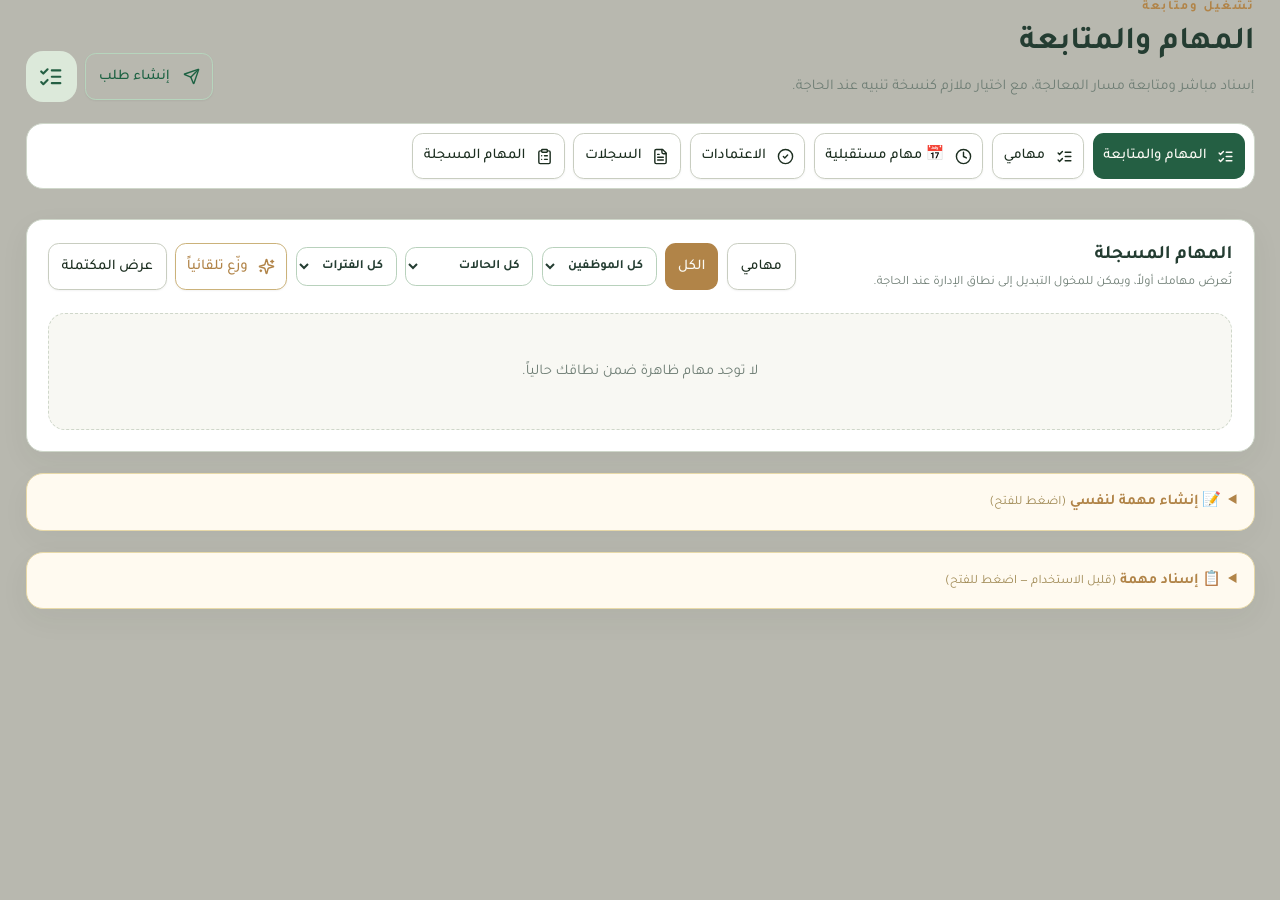
مساحة المهام — مودال إلغاء المهمة › يفتح مودال الإلغاء ويتطلب سبباً من 10 أحرف
This screenshot has width=1280, height=900.
Click the button "السجلات": (627, 156) [573,133,681,180]
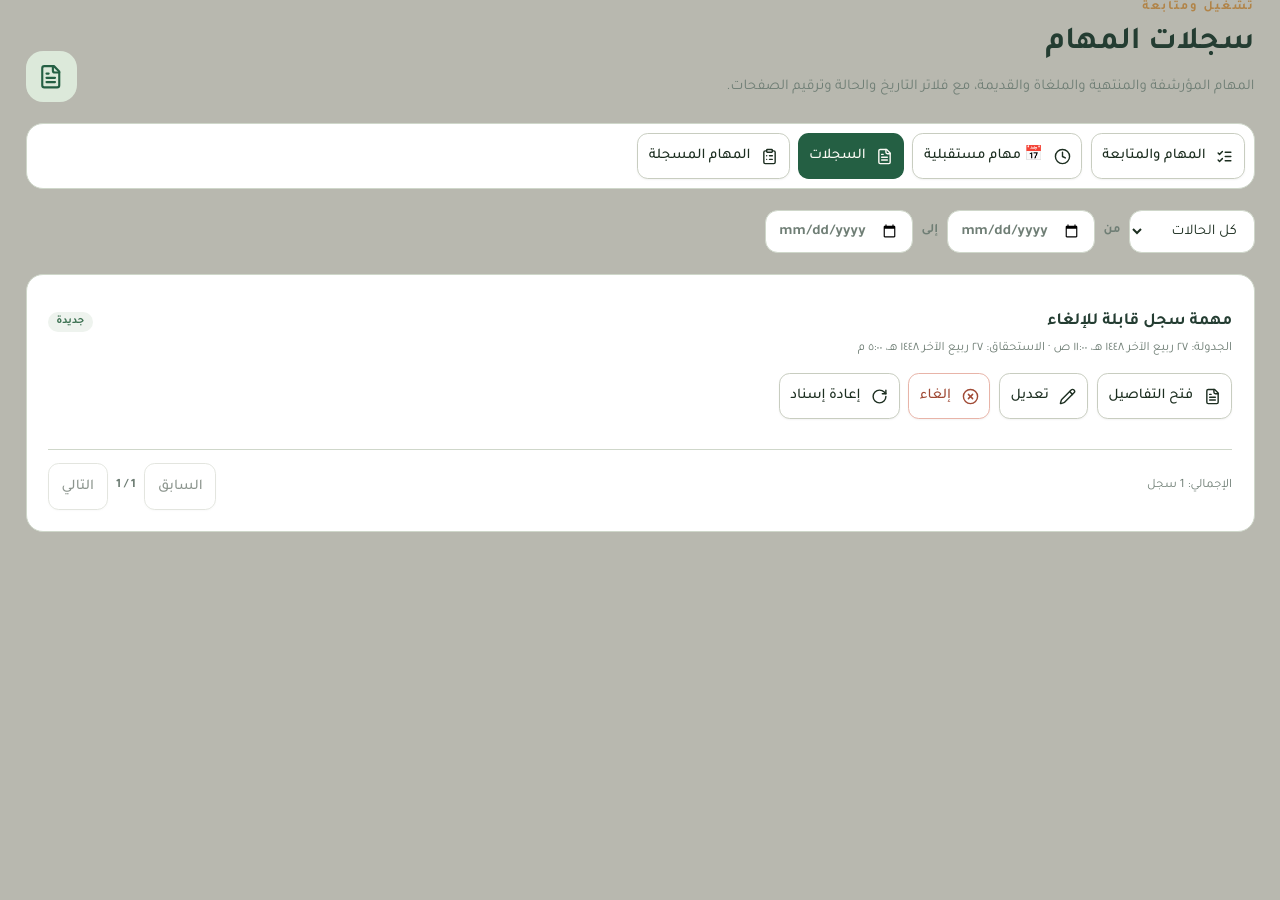
Click the button "إلغاء": (949, 396) [908,373,990,420]
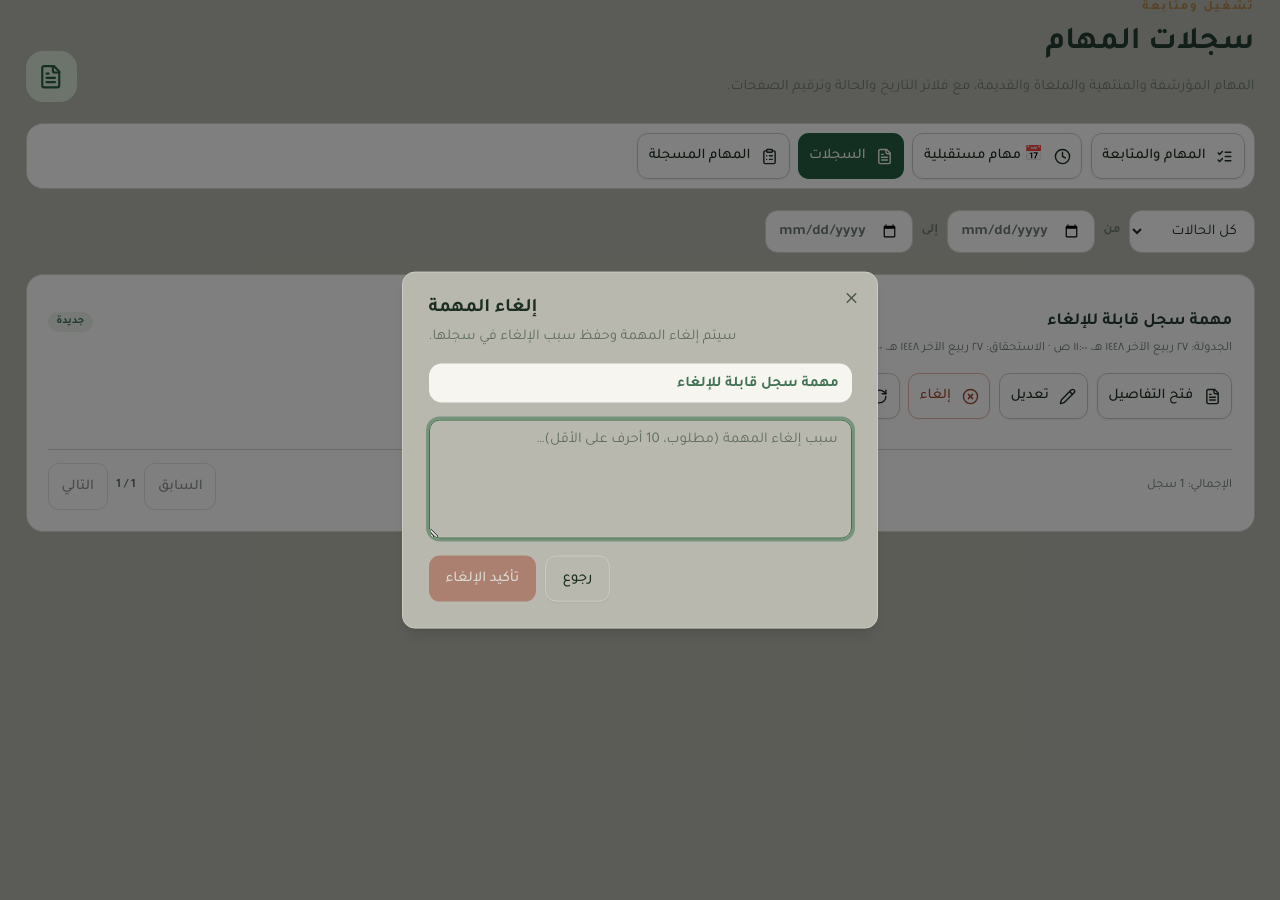
Expected: the heading "إلغاء المهمة" is shown, [428,298,537,317]
Expected: the button "تأكيد الإلغاء" is disabled, [428,555,536,602]
